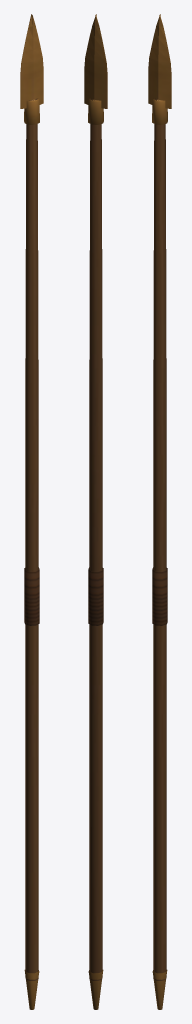
The model's file is lance-dory.glb.
The picture shows the model from 3 angles, left to right: view 1: azimuth 30°, elevation 25°; view 2: azimuth 150°, elevation 25°; view 3: azimuth 330°, elevation 25°; orthographic projection.
Parts seen in each view (by area): view 1: lance-dory; view 2: lance-dory; view 3: lance-dory.
Part boxes in pixels (x1=…): lance-dory: x1=20, y1=14, x2=43, y2=1009; lance-dory: x1=84, y1=14, x2=107, y2=1009; lance-dory: x1=148, y1=14, x2=171, y2=1009.
Bounding box in the file's own units: 0.064 × 2.6 × 0.04.
1 material, 1 textured.
